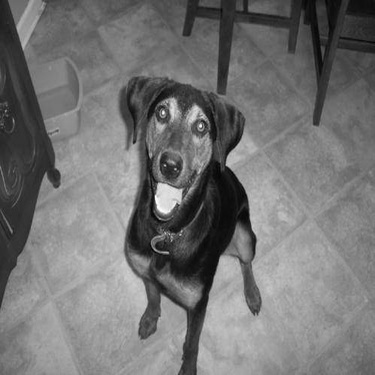dog: (109, 62, 264, 371)
